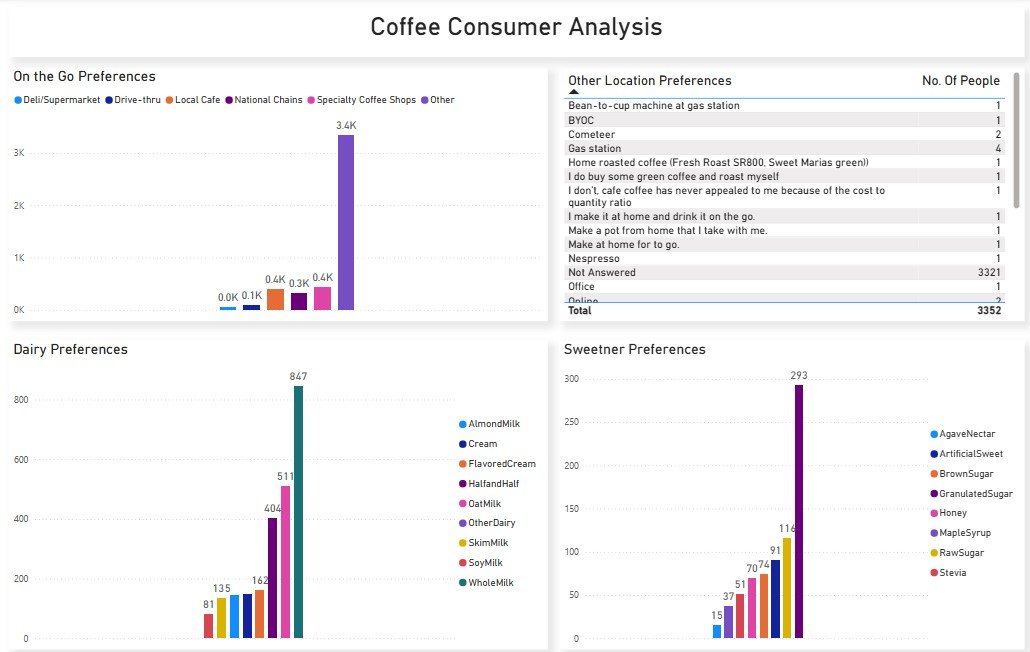

This screenshot's page, from the dashboard's own definition file:
{"tool":"powerbi","page":{"name":"Preferences Drill-through","canvas":[1400,900],"ordinal":4},"visuals":[{"type":"clusteredColumnChart","title":"On the Go Preferences","fields":{"Y":["CoffeeTableMeasures.OnDeli","CoffeeTableMeasures.OnDrive","CoffeeTableMeasures.OnLocalCafe","CoffeeTableMeasures.OnNationalChain","CoffeeTableMeasures.OnSpecialityCoffee","CoffeeTableMeasures.OnOther"]},"box":[16.2,95.1,726.6,342.1],"z":0},{"type":"tableEx","fields":{"Values":["CoffeeData.Where else do you purchase coffee?","CoffeeTableMeasures.OnOther"]},"box":[759,95.1,627.5,342.1],"z":1000},{"type":"clusteredColumnChart","title":"Dairy Preferences","fields":{"Y":["CoffeeTableMeasures.AlmondMilk","CoffeeTableMeasures.Cream","CoffeeTableMeasures.FlavoredCream","CoffeeTableMeasures.HalfandHalf","CoffeeTableMeasures.OatMilk","CoffeeTableMeasures.OtherDairy","CoffeeTableMeasures.SkimMilk","CoffeeTableMeasures.SoyMilk","CoffeeTableMeasures.WholeMilk"]},"box":[16.2,463.5,726.6,417],"z":2000},{"type":"clusteredColumnChart","title":"Sweetner Preferences","fields":{"Y":["CoffeeTableMeasures.AgaveNectar","CoffeeTableMeasures.ArtificialSweet","CoffeeTableMeasures.BrownSugar","CoffeeTableMeasures.GranulatedSugar","CoffeeTableMeasures.Honey","CoffeeTableMeasures.MapleSyrup","CoffeeTableMeasures.RawSugar","CoffeeTableMeasures.Stevia"]},"box":[759,463.5,627.5,417],"z":3000},{"type":"textbox","box":[16.2,14.2,1370.3,66.8],"z":4000}]}

Visuals, with their boxes in screenshot pixels (x1, y1, x2, y2), scaled from the page's 1400x900 canvas onto the 1030x652 screenshot:
"On the Go Preferences" clusteredColumnChart: box(12, 69, 546, 317)
tableEx - CoffeeData.Where else do you purchase coffee? x CoffeeTableMeasures.OnOther: box(558, 69, 1020, 317)
"Dairy Preferences" clusteredColumnChart: box(12, 336, 546, 638)
"Sweetner Preferences" clusteredColumnChart: box(558, 336, 1020, 638)
textbox: box(12, 10, 1020, 59)
